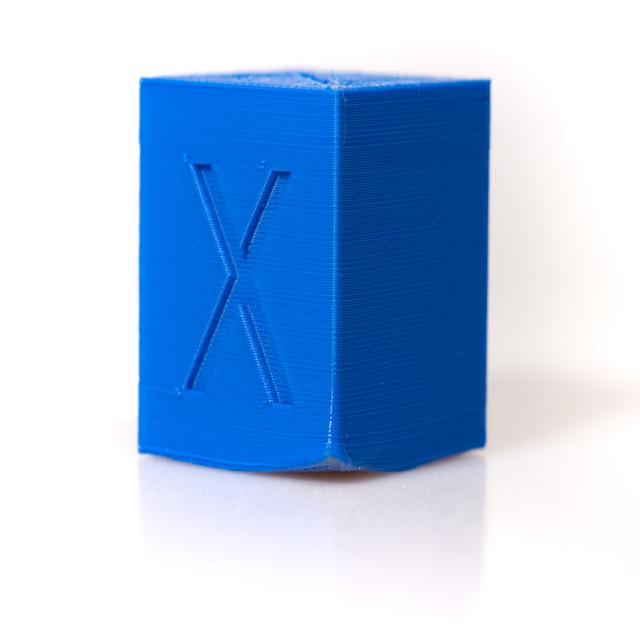warping: (258, 447, 397, 479)
